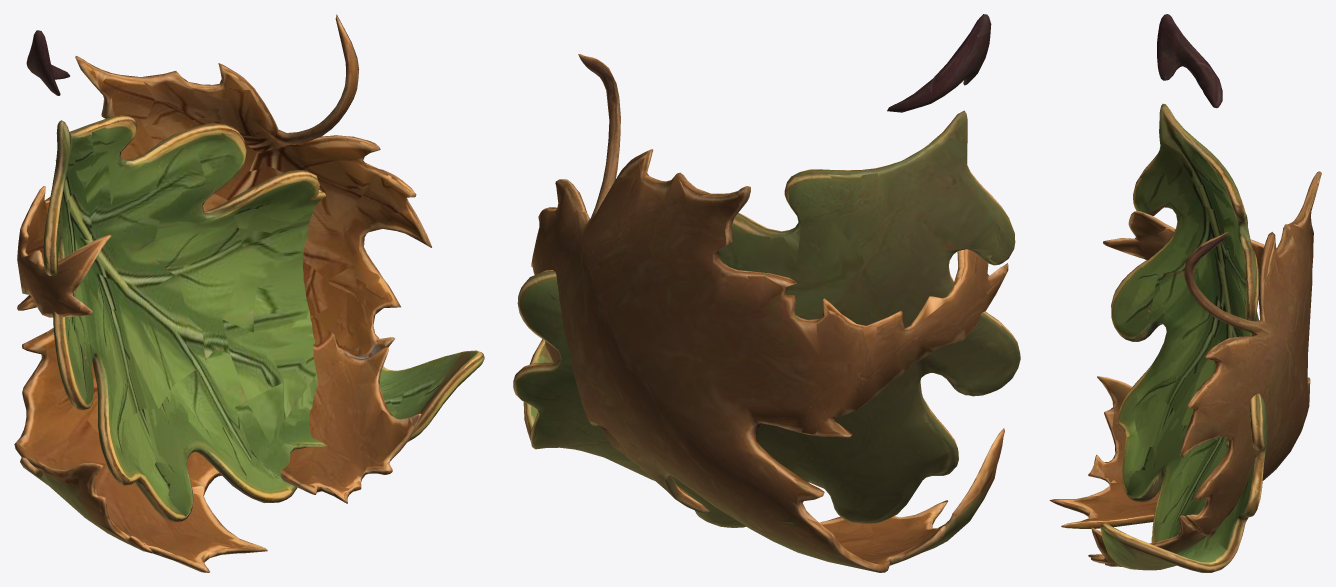
The model's file is yapraklar.glb.
The picture shows the model from 3 angles, left to right: view 1: azimuth 30°, elevation 25°; view 2: azimuth 150°, elevation 25°; view 3: azimuth 270°, elevation 25°; orthographic projection. The views are drawn at different scales.
Parts seen in each view (by area): view 1: yesil, kuru; view 2: kuru, yesil; view 3: yesil, kuru.
Boxes of the visible parts, bbox=[...] form: yesil: bbox=[26, 30, 484, 522]; kuru: bbox=[14, 14, 431, 572]; kuru: bbox=[531, 54, 1008, 572]; yesil: bbox=[513, 14, 1020, 527]; yesil: bbox=[1100, 14, 1267, 572]; kuru: bbox=[1049, 171, 1321, 566].
Bounding box in the file's own units: 0.9275 × 1.08 × 0.5914.
1 material, 1 textured.
